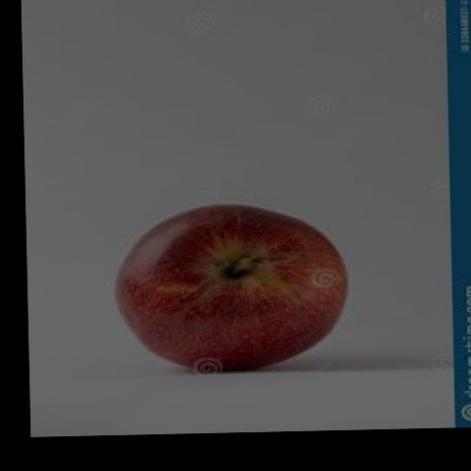red apple: (108, 199, 354, 372)
